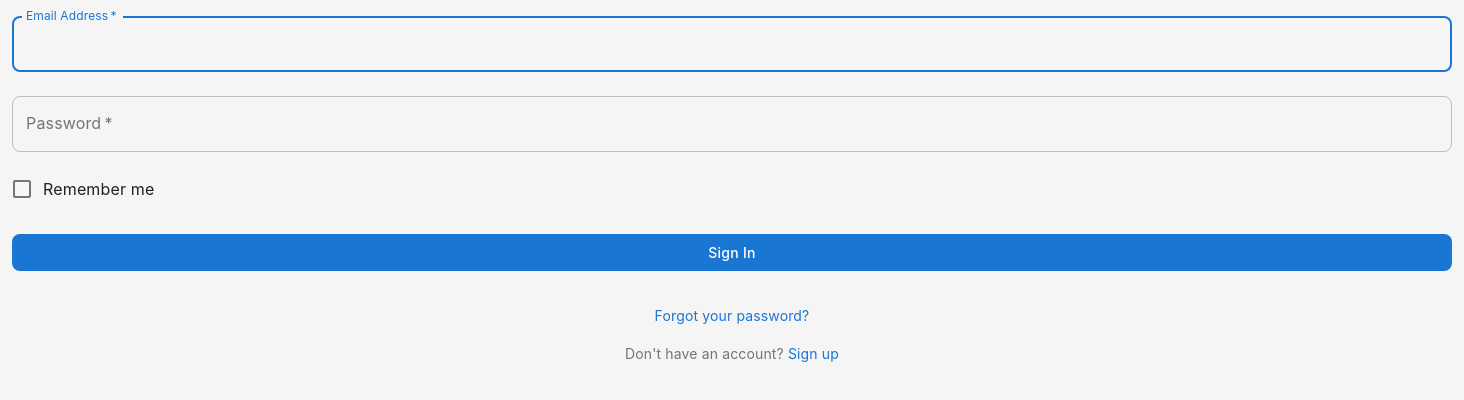
Test: LoginForm › shows validation error for short password
Type "test@example.com" into the field labelled "Email Address *" at (732, 44), box [12, 16, 1452, 72]
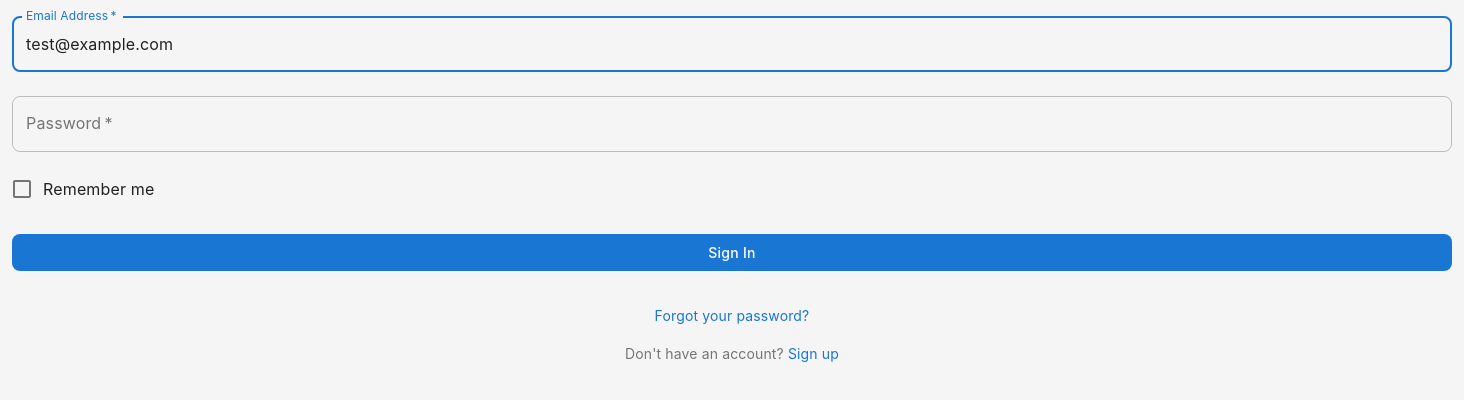
Type "123" into the password field labelled "Password *" at (732, 124), box [12, 96, 1452, 152]
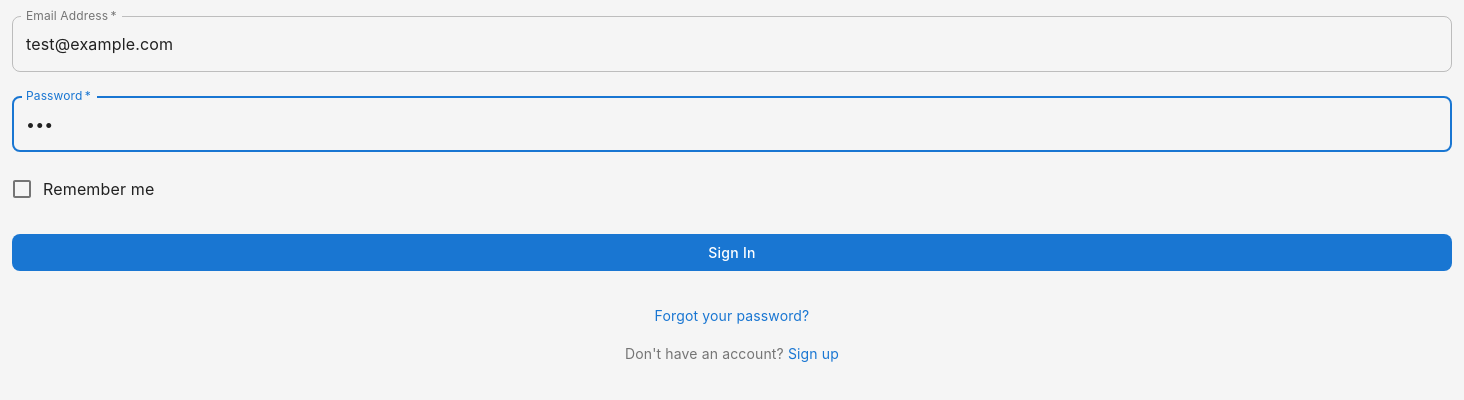
Click the button "Sign In" at (732, 252), box [12, 234, 1452, 271]
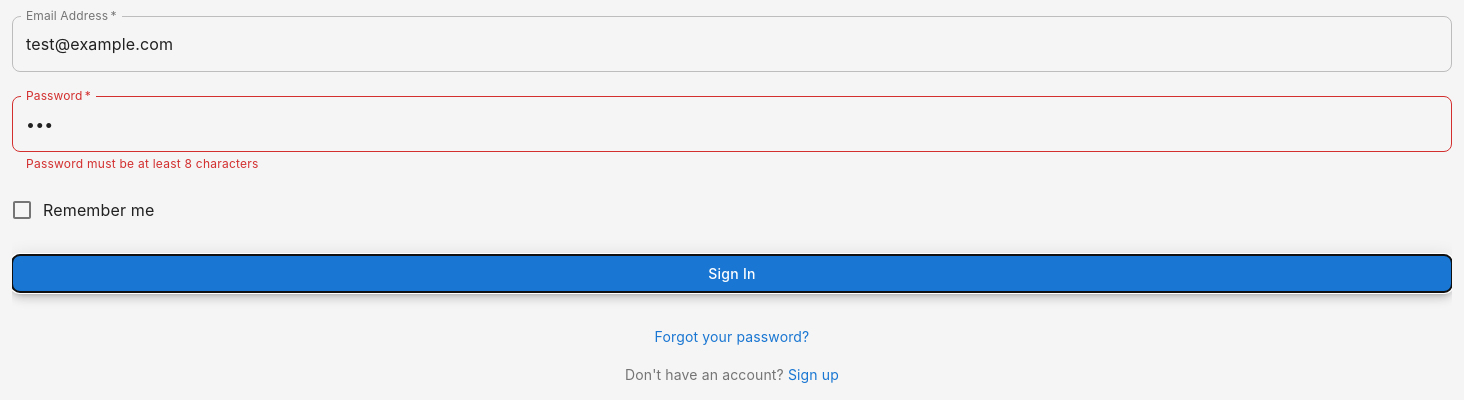
Expected: the text "Password must be at least 8 characters" is shown, [26, 156, 259, 171]
